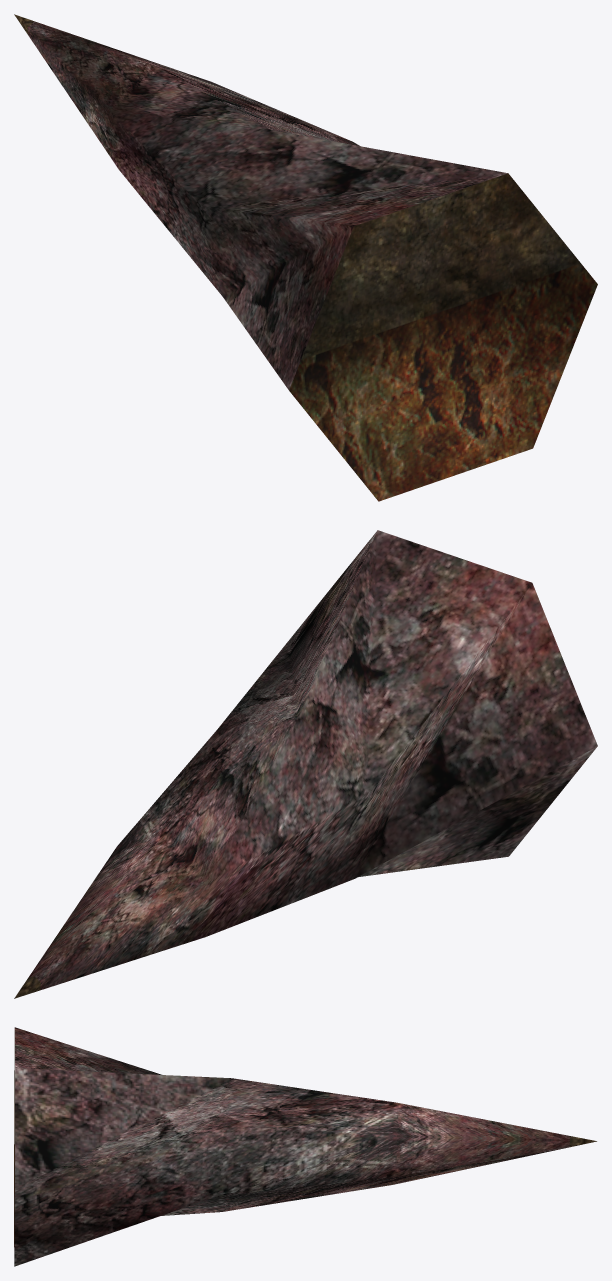
Rendered from stalactite_03.obj.
The picture shows the model from 3 angles, top to bottom: view 1: azimuth 30°, elevation 25°; view 2: azimuth 150°, elevation 25°; view 3: azimuth 270°, elevation 25°; orthographic projection. The views are drawn at different scales.
Parts seen in each view (by area): view 1: (null); view 2: (null); view 3: (null).
Part boxes in pixels (<box>): (null): <box>14,14,597,501</box>; (null): <box>14,530,597,998</box>; (null): <box>14,1027,596,1266</box>.
Bounding box in the file's own units: 3.23 × 2.95 × 7.78.
